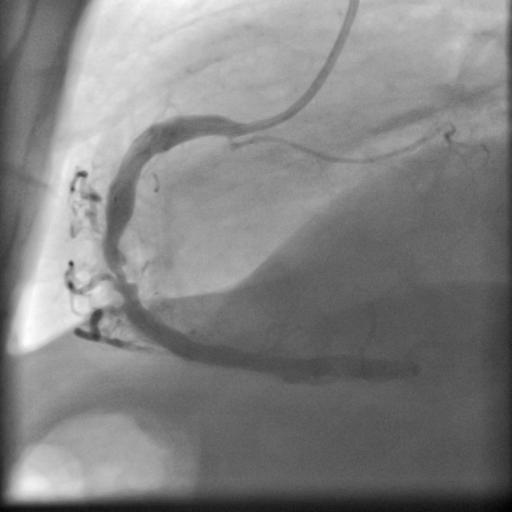Stenosis: (104, 251, 140, 295)
